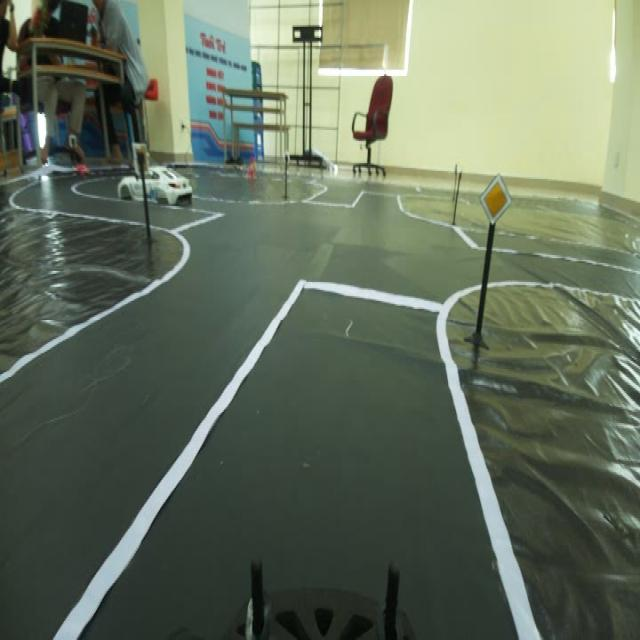priority: (472, 164, 520, 230)
